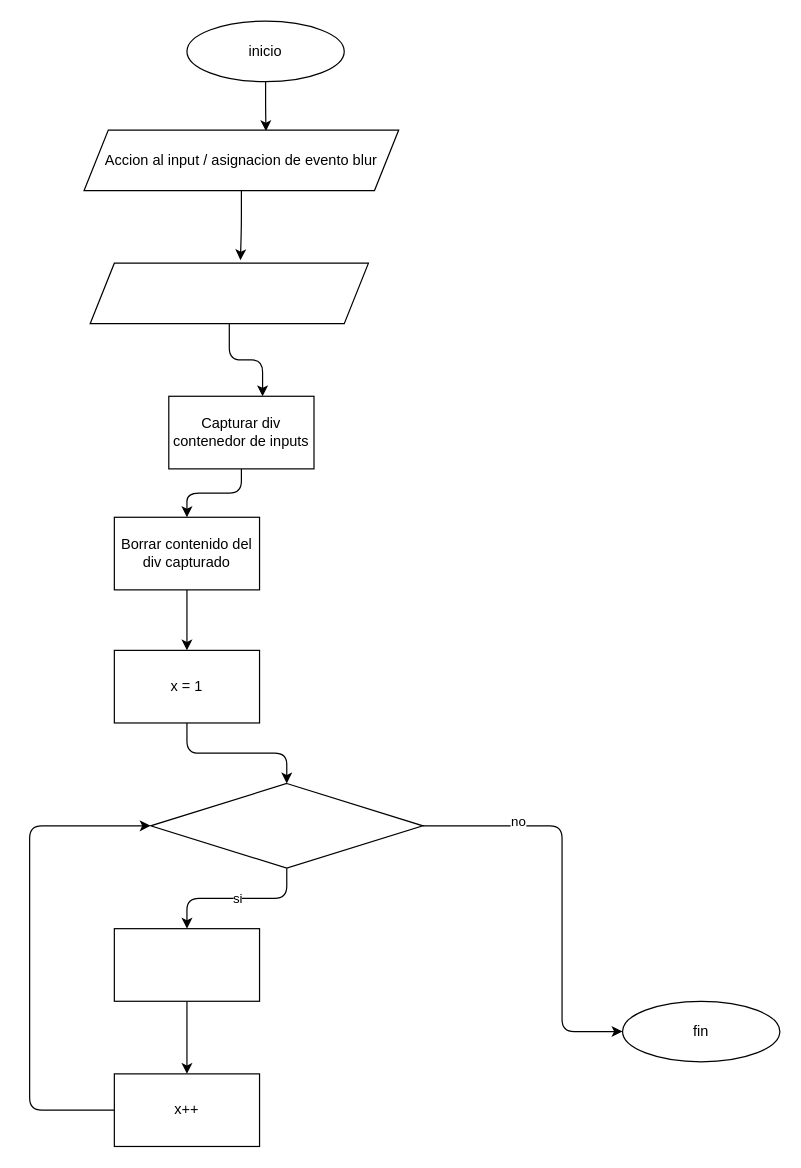
The diagram is 801 pixels wide and 1168 high, and some of its shapes have lost their labels. The shapes that lost their labels are listed below. From the top down, each one's box as (x1, y1, x2, y2) in pixels, then its label:
(89, 262, 368, 324): Solicitar la cantidad de inputs
(149, 782, 423, 868): x <= inputs solicitados
(113, 927, 260, 1001): Crear input
